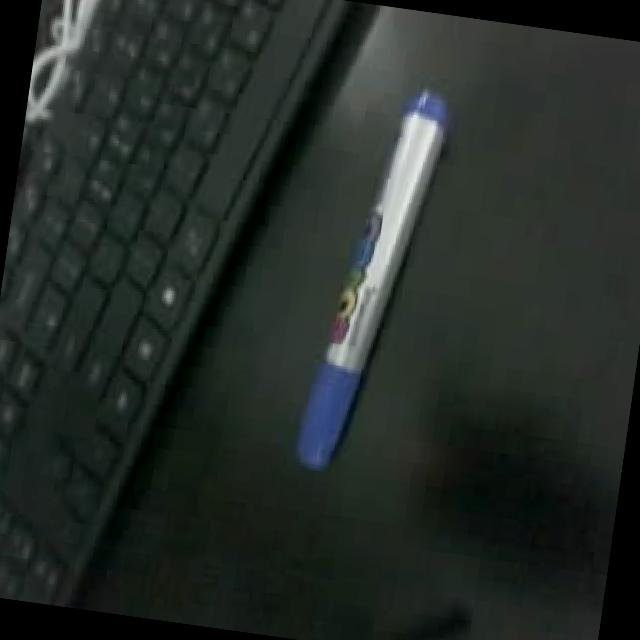board-marker: (297, 89, 449, 466)
